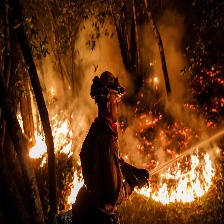fire: (21, 109, 88, 205), (131, 144, 222, 206)
smoke: (63, 22, 186, 80)
